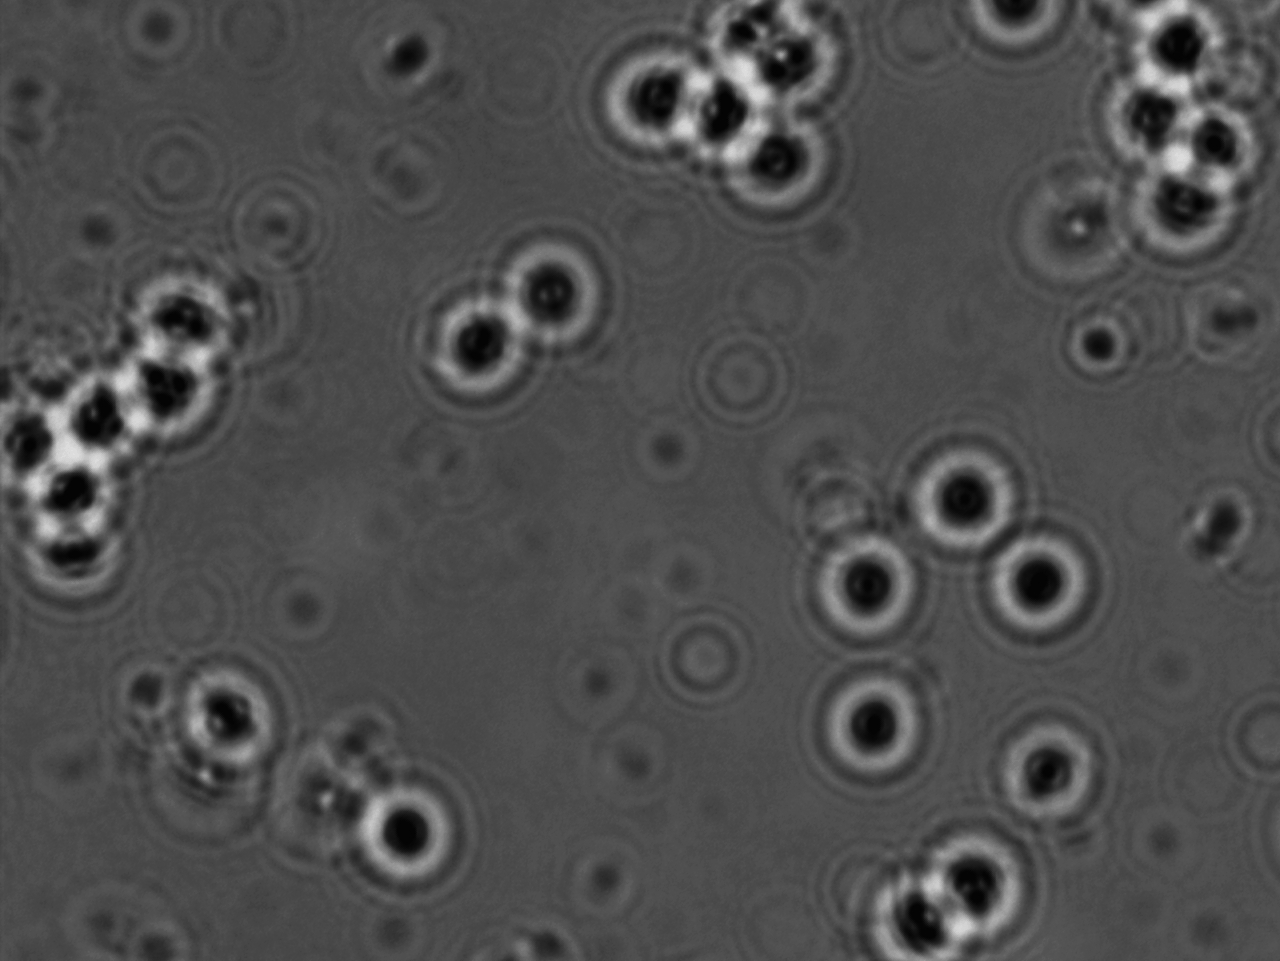depth:-16: (336, 770, 490, 910), (417, 270, 555, 422), (788, 519, 939, 658), (971, 706, 1125, 841), (795, 657, 941, 796), (967, 498, 1105, 641), (895, 429, 1031, 569), (475, 206, 606, 351), (585, 43, 715, 167)
